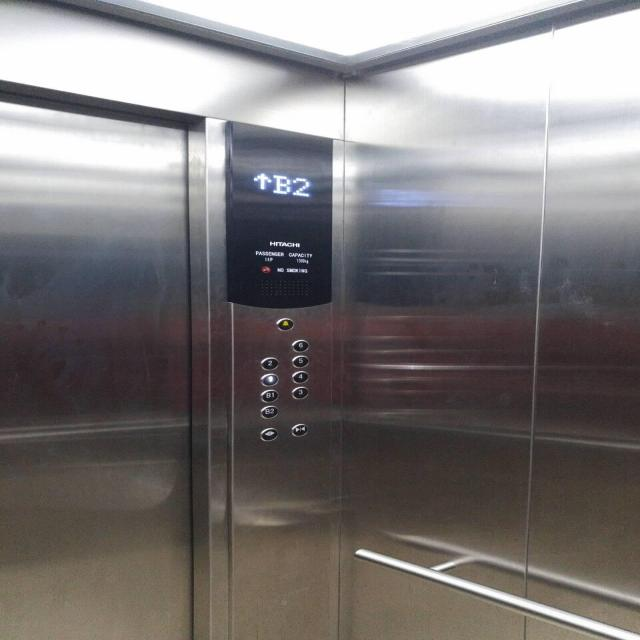1: (258, 372, 279, 387)
2: (258, 356, 279, 371)
3: (289, 385, 310, 400)
4: (289, 370, 310, 384)
5: (289, 354, 310, 368)
6: (289, 338, 310, 353)
B1: (258, 389, 279, 403)
B2: (257, 404, 279, 419)
alarm: (274, 317, 295, 332)
close: (287, 423, 309, 437)
led: (218, 113, 336, 310)
open: (257, 427, 279, 441)
